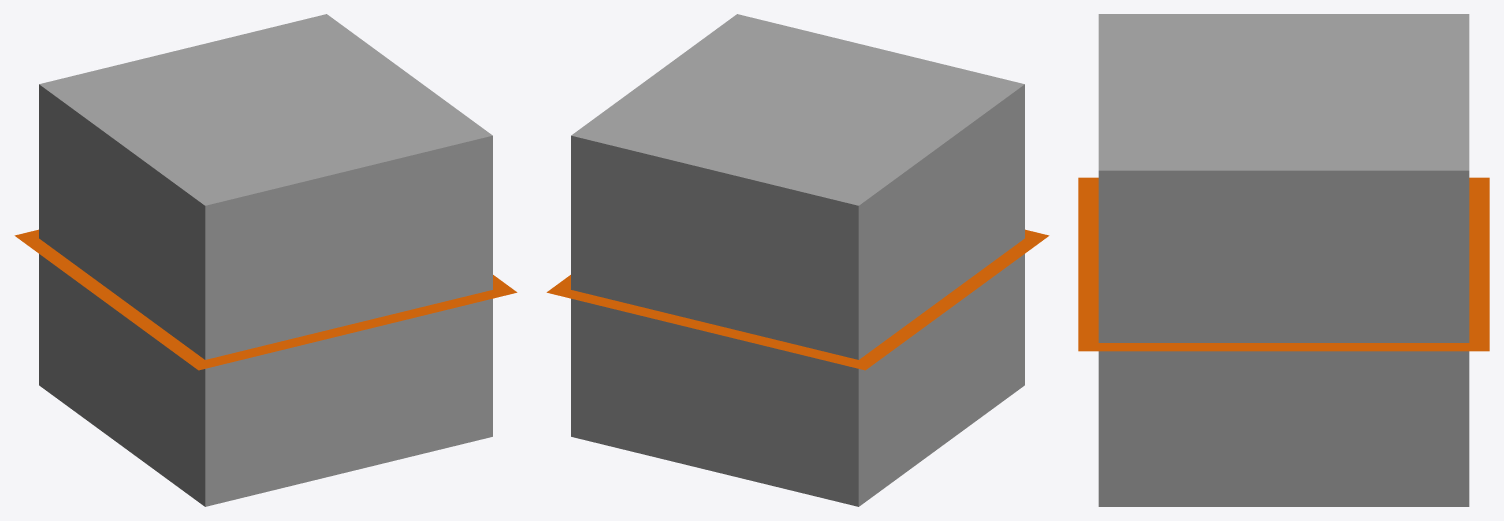
The model's file is stage_Beta1.fbx.
The picture shows the model from 3 angles, left to right: view 1: azimuth 30°, elevation 25°; view 2: azimuth 150°, elevation 25°; view 3: azimuth 270°, elevation 25°; orthographic projection. The views are drawn at different scales.
Visible parts, largest first — view 1: hit, floor; view 2: hit, floor; view 3: hit, floor.
Part boxes in pixels (x1,y1,x2,y2): hit: (39, 14, 492, 506); floor: (14, 229, 517, 370); hit: (571, 14, 1024, 506); floor: (546, 229, 1049, 370); hit: (1098, 14, 1469, 506); floor: (1078, 177, 1489, 351).
Bounding box in the file's own units: 5000 × 4509 × 5000.
